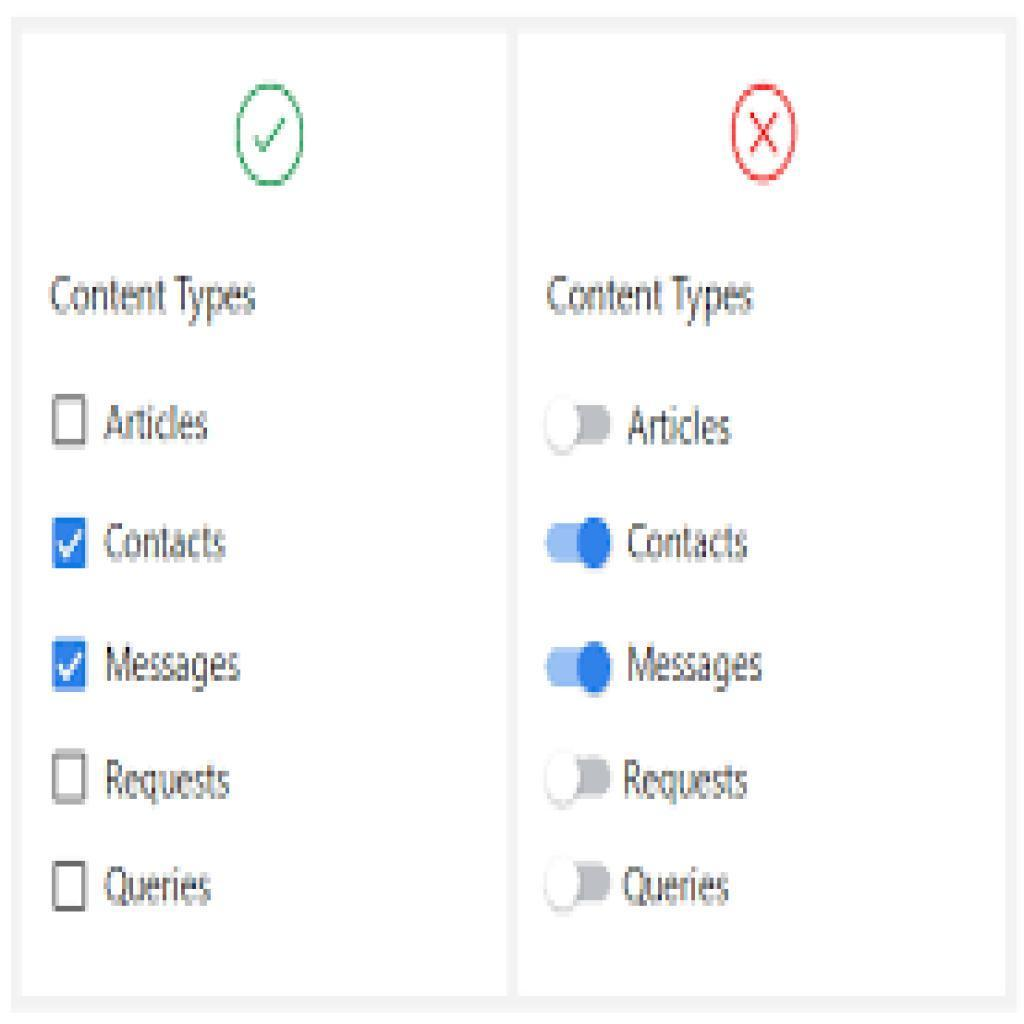checkbox: (51, 641, 90, 694), (51, 860, 90, 912), (53, 396, 89, 449), (53, 521, 90, 570), (55, 753, 88, 802)
switch: (538, 843, 621, 923), (540, 389, 624, 466), (540, 740, 622, 818), (541, 632, 620, 709), (544, 508, 617, 586)
